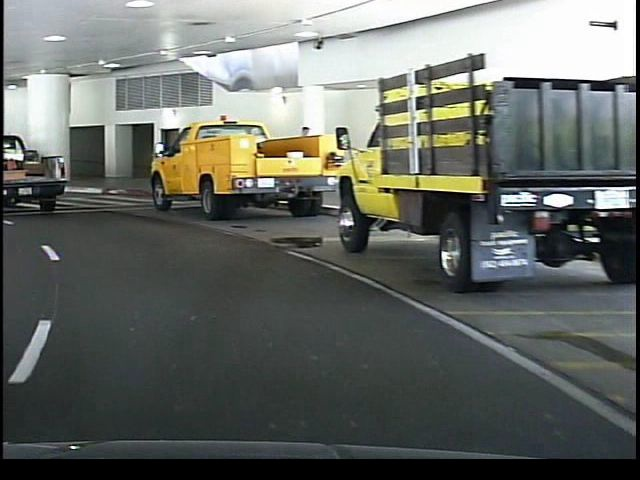person: (290, 120, 316, 199)
